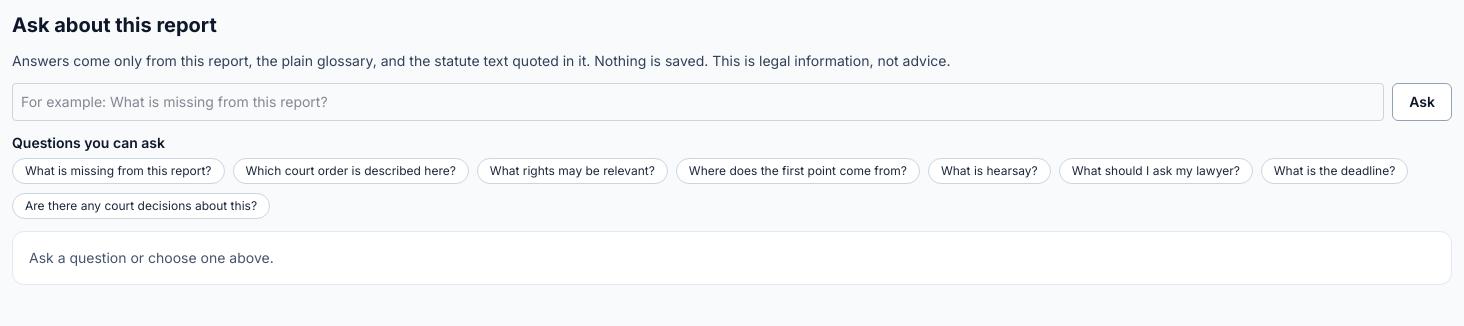
it: EducationalQa › says plainly when the records do not answer
The width and height of the screenshot is (1464, 326).
Type "What is the weather on Mars?" into the field named "Your question" at (698, 102), box [12, 83, 1384, 121]
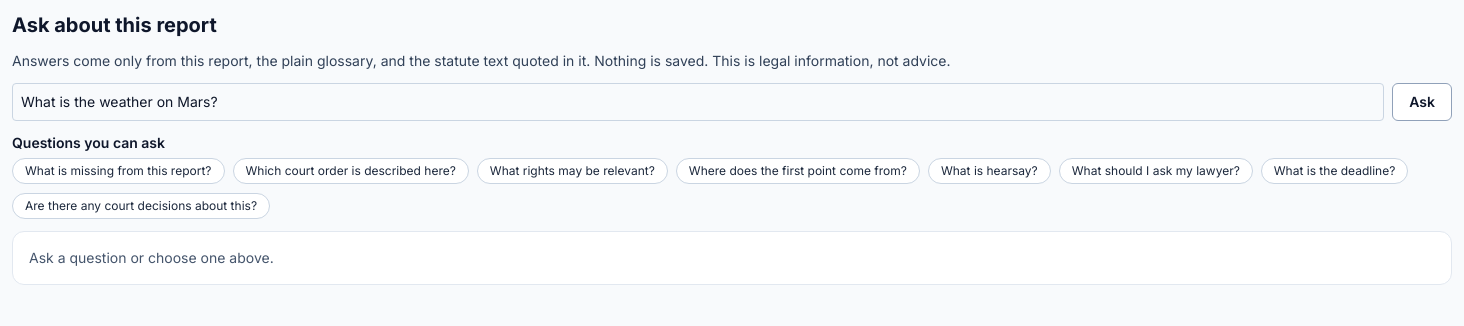
Submit the form named "Your question", box [12, 83, 1452, 121]
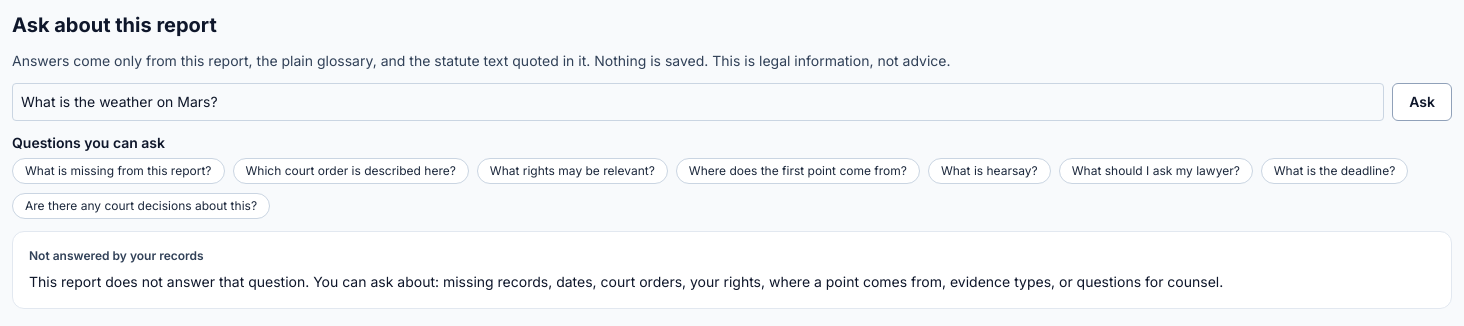
expect the message shows "does not answer that question": met, box [29, 273, 1223, 290]
